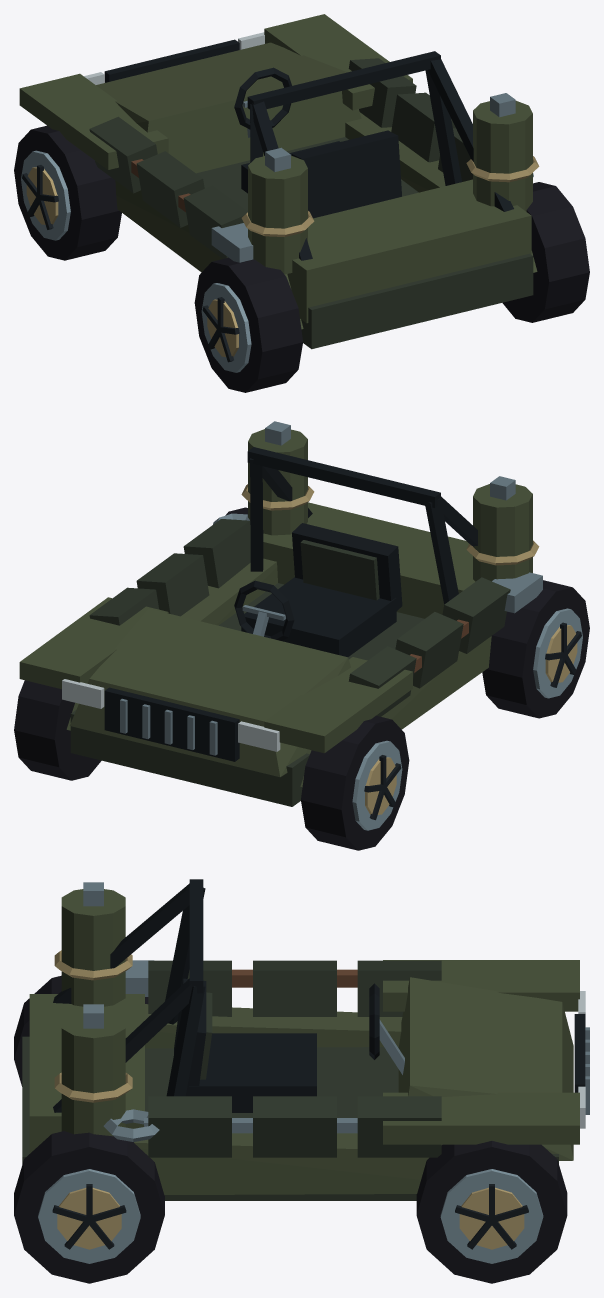
The model's file is kart.glb.
3 renders of one model, top to bottom at view 1: azimuth 30°, elevation 25°; view 2: azimuth 150°, elevation 25°; view 3: azimuth 270°, elevation 25°, orthographic. The views are drawn at different scales.
Parts seen in each view (by area): view 1: identity-jeep-jeep-offroad-frame, identity-jeep-motif-tanks, identity-jeep-motif-armor, wheel-rear-left, wheel-front-left, identity-jeep-driver-cockpit, wheel-rear-right, identity-jeep-motif-tools; view 2: identity-jeep-jeep-offroad-frame, identity-jeep-motif-armor, identity-jeep-driver-cockpit, wheel-front-left, wheel-rear-left, identity-jeep-motif-tanks, wheel-front-right, identity-jeep-motif-tools; view 3: identity-jeep-jeep-offroad-frame, identity-jeep-motif-armor, wheel-rear-right, wheel-front-right, identity-jeep-motif-tanks, identity-jeep-driver-cockpit, identity-jeep-motif-tools, wheel-rear-left.
Boxes of the visible parts, x1=… form: identity-jeep-jeep-offroad-frame: x1=19, y1=14, x2=537, y2=349; identity-jeep-motif-tanks: x1=241, y1=93, x2=539, y2=274; identity-jeep-motif-armor: x1=89, y1=58, x2=472, y2=258; wheel-rear-left: x1=194, y1=257, x2=302, y2=392; wheel-front-left: x1=14, y1=125, x2=121, y2=260; identity-jeep-driver-cockpit: x1=234, y1=67, x2=401, y2=218; wheel-rear-right: x1=502, y1=182, x2=589, y2=322; identity-jeep-motif-tools: x1=131, y1=159, x2=533, y2=262; identity-jeep-jeep-offroad-frame: x1=19, y1=447, x2=491, y2=806; identity-jeep-motif-armor: x1=89, y1=519, x2=510, y2=716; identity-jeep-driver-cockpit: x1=234, y1=523, x2=402, y2=657; wheel-front-left: x1=301, y1=715, x2=409, y2=850; wheel-rear-left: x1=482, y1=580, x2=589, y2=718; identity-jeep-motif-tanks: x1=241, y1=421, x2=539, y2=581; wheel-front-right: x1=14, y1=680, x2=101, y2=780; identity-jeep-motif-tools: x1=213, y1=513, x2=542, y2=672; identity-jeep-jeep-offroad-frame: x1=22, y1=879, x2=589, y2=1200; identity-jeep-motif-armor: x1=148, y1=960, x2=441, y2=1157; wheel-rear-right: x1=14, y1=1131, x2=164, y2=1283; wheel-front-right: x1=416, y1=1141, x2=567, y2=1283; identity-jeep-motif-tanks: x1=54, y1=882, x2=132, y2=1136; identity-jeep-driver-cockpit: x1=174, y1=978, x2=404, y2=1112; identity-jeep-motif-tools: x1=103, y1=960, x2=357, y2=1141; wheel-rear-left: x1=14, y1=975, x2=148, y2=1086.
Bounding box in the file's own units: 2.13 × 1.39 × 2.75.
